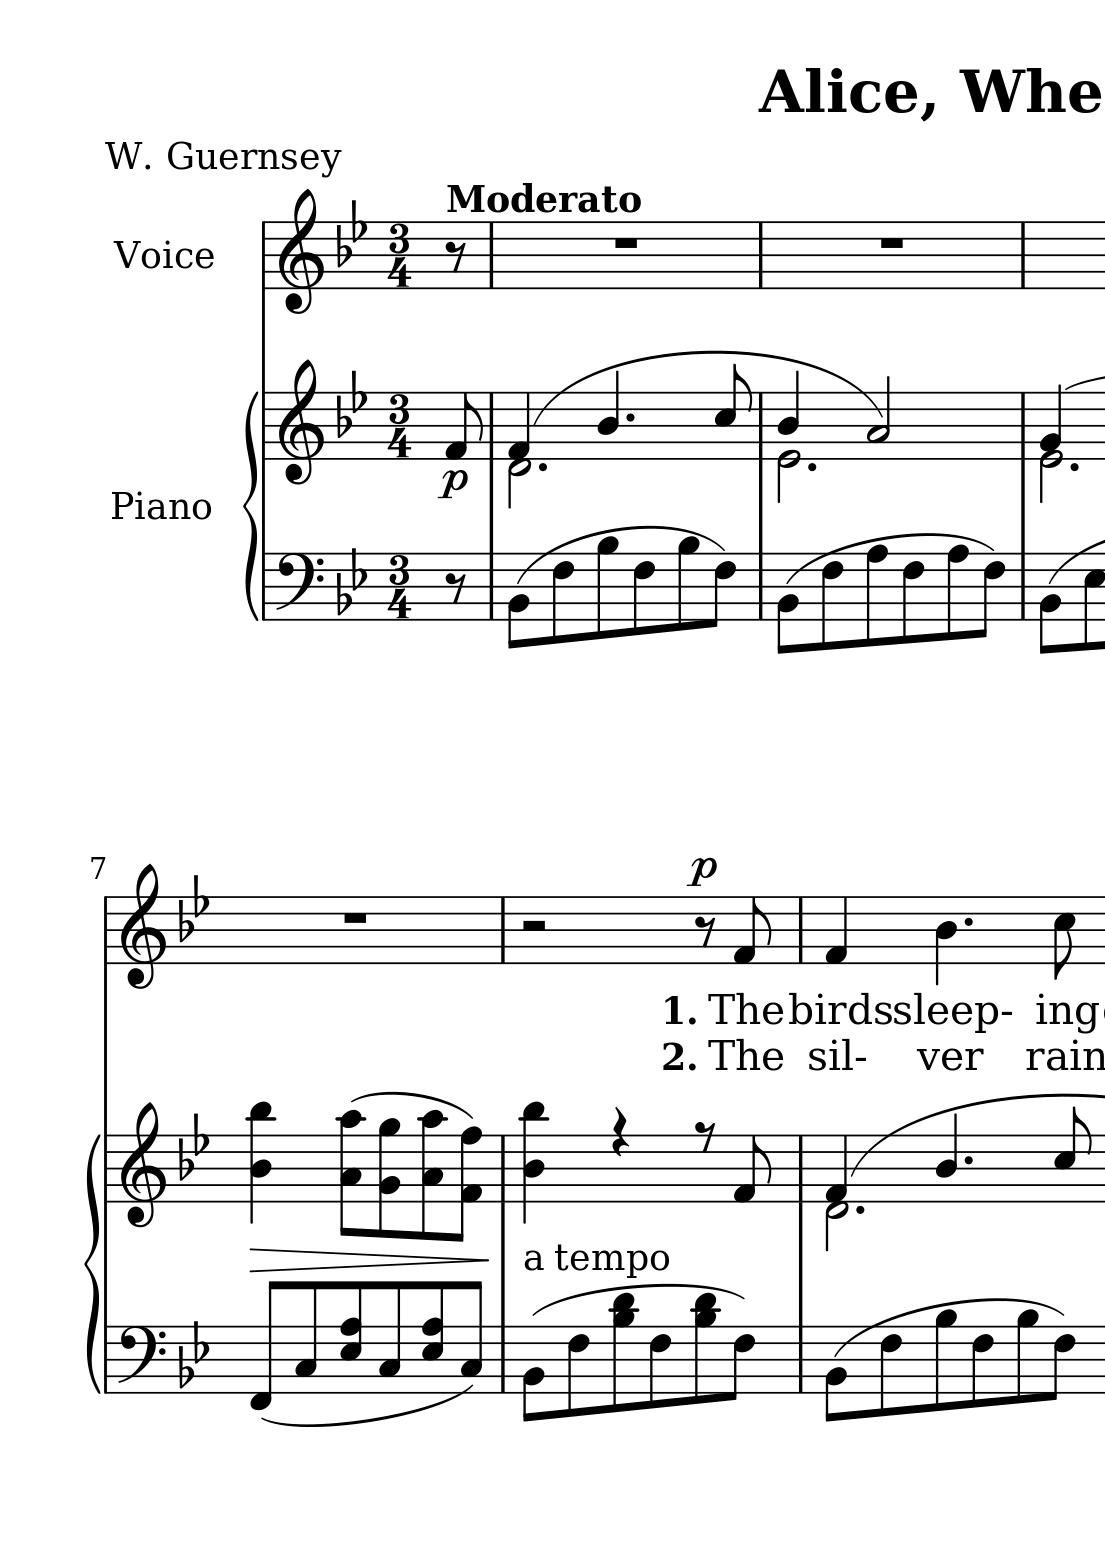2_3: (863, 374, 893, 463)
3: (386, 391, 411, 425), (387, 221, 411, 255), (387, 552, 411, 586)
4: (385, 254, 414, 288), (386, 425, 413, 459), (386, 586, 413, 619)
4_1: (822, 895, 849, 967)
4_4: (933, 895, 958, 987), (933, 1112, 958, 1204), (596, 370, 619, 460)
4_4_11: (517, 1099, 550, 1225), (244, 1100, 277, 1225)
7: (88, 853, 106, 883)
8_-1: (245, 1276, 281, 1414)
8_1: (731, 895, 773, 966), (731, 1134, 771, 1205), (442, 391, 483, 460)
8_1_8: (456, 1125, 482, 1243)
8_2: (774, 550, 800, 655), (519, 1323, 545, 1424), (1037, 550, 1062, 657), (822, 1324, 847, 1424), (505, 551, 529, 651)
8_2_9: (377, 1115, 399, 1240)
8_3: (457, 1277, 486, 1397), (376, 1276, 403, 1396), (292, 1276, 318, 1397)
8_3_10: (335, 1109, 367, 1238), (415, 1109, 445, 1243)
8_5: (712, 364, 751, 463), (1051, 1105, 1089, 1205), (1080, 551, 1104, 652), (1050, 895, 1076, 981)
8_5_8: (338, 1280, 364, 1396), (421, 1280, 445, 1394)
8_6: (817, 550, 844, 652), (975, 551, 1006, 640), (1044, 1324, 1076, 1402), (724, 1324, 755, 1402), (564, 1324, 590, 1419), (877, 1324, 902, 1419), (549, 552, 574, 647), (706, 551, 735, 629), (899, 552, 924, 645), (646, 1324, 671, 1411), (969, 1325, 994, 1410), (631, 552, 655, 637)
8_8: (861, 543, 887, 648), (944, 544, 969, 642)
8_9: (594, 535, 619, 641), (932, 1308, 957, 1414), (1013, 1308, 1039, 1406), (674, 535, 700, 631)
8_9_11: (608, 1292, 639, 1414), (689, 1290, 721, 1406)
B_F: (176, 873, 210, 944), (176, 1111, 209, 1182), (334, 368, 367, 438), (335, 547, 367, 617), (177, 1319, 209, 1388), (335, 199, 367, 267)
Brace: (84, 1131, 103, 1391), (244, 384, 260, 622)
Fclef: (115, 1324, 165, 1396), (273, 551, 323, 622)
Gclef: (275, 187, 324, 317), (118, 862, 166, 991), (276, 358, 323, 486), (118, 1101, 165, 1229)
Pno: (108, 488, 213, 525)
Rests1: (610, 233, 642, 252), (338, 908, 371, 927), (877, 234, 908, 254)
Rests2: (518, 917, 550, 938)
Rests4: (609, 1106, 630, 1160)
Rests8: (442, 570, 468, 606), (692, 914, 718, 950), (692, 1119, 718, 1155), (444, 239, 468, 274)
Single_barline: (752, 552, 771, 622), (790, 896, 810, 963), (493, 897, 512, 963), (792, 1134, 810, 1203), (483, 392, 501, 460), (1014, 552, 1032, 621), (1014, 393, 1032, 460), (482, 552, 500, 619), (255, 221, 271, 289), (495, 1135, 512, 1203), (494, 1325, 511, 1393), (753, 393, 770, 460), (481, 222, 497, 288), (793, 1325, 808, 1393), (752, 222, 768, 288), (99, 1135, 114, 1203), (257, 392, 271, 459), (98, 897, 112, 964), (1015, 222, 1030, 288), (258, 552, 271, 619), (100, 1326, 114, 1393)
TimeSig: (384, 391, 413, 460), (385, 220, 413, 291), (385, 552, 413, 621)
dot: (960, 914, 975, 929), (1068, 459, 1082, 474), (961, 1152, 975, 1167), (623, 410, 636, 425), (805, 459, 818, 474), (853, 1203, 866, 1217), (536, 460, 548, 474)
p: (436, 468, 469, 502), (686, 855, 719, 889)
